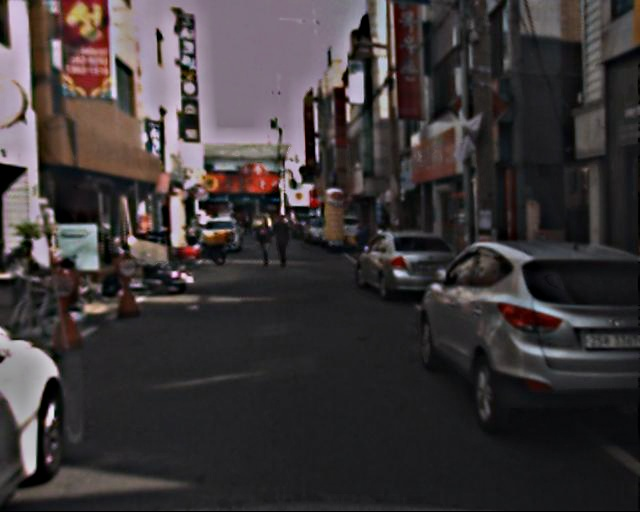person: (354, 213, 378, 278), (274, 212, 298, 275), (256, 218, 277, 273)
